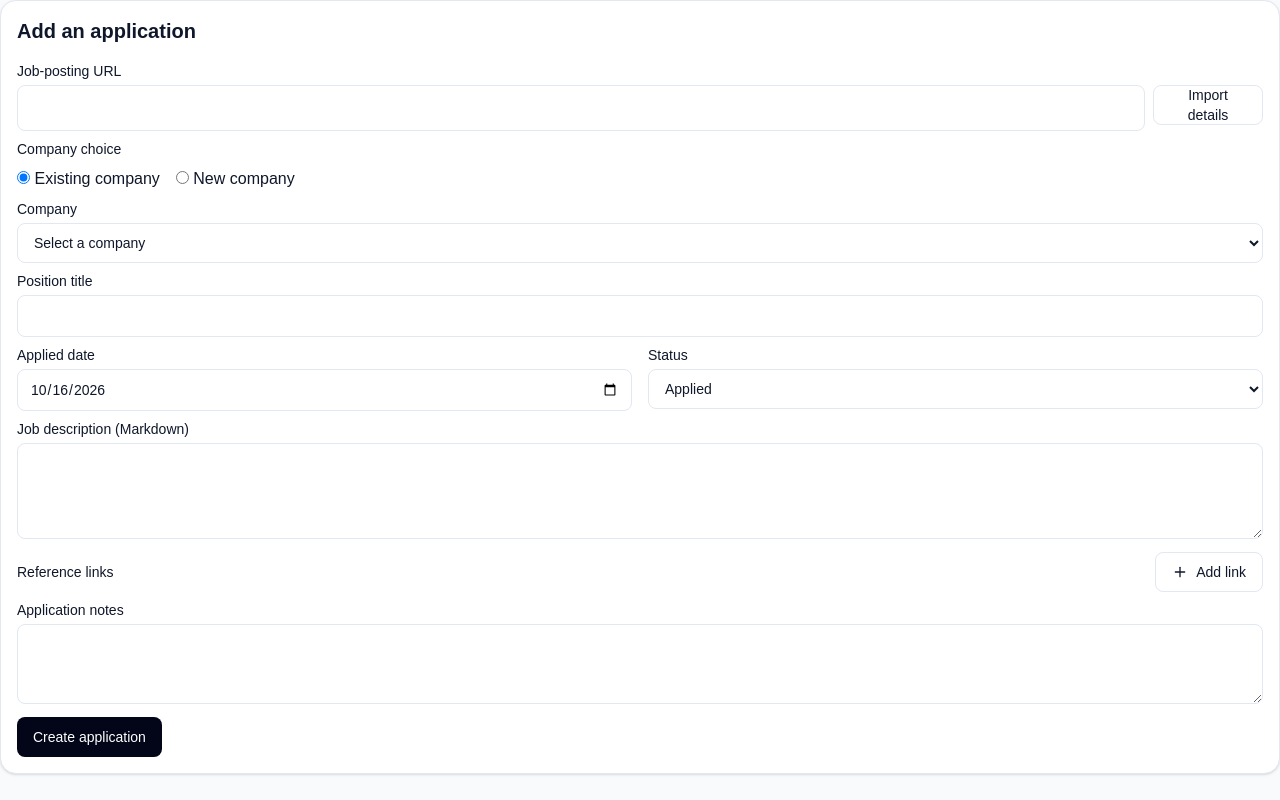
CreateApplicationForm › supports inline company and preserves values after a server error
Click the radio button labelled "New company": point(182, 178) top-left (176, 171), bottom-right (189, 184)
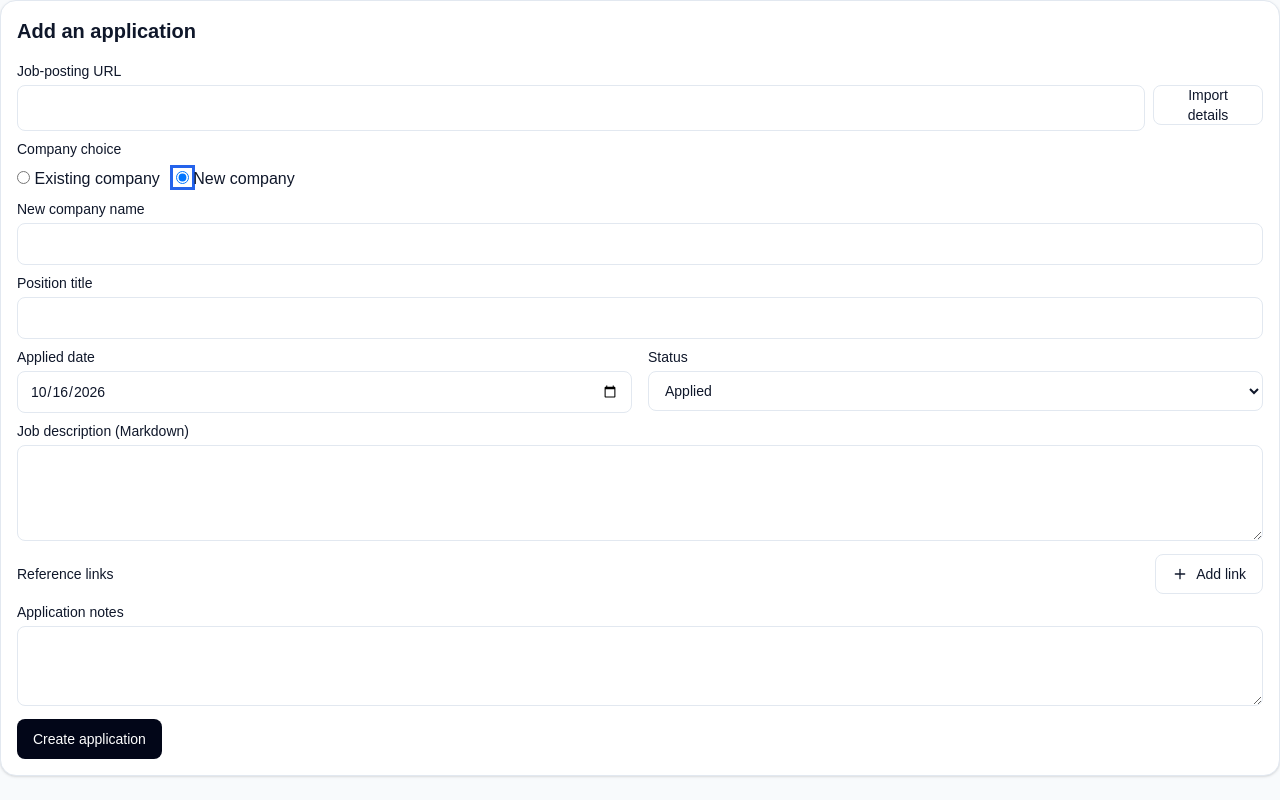
In the field labelled "New company name": point(640, 244) top-left (17, 223), bottom-right (1263, 265), type "New Co"
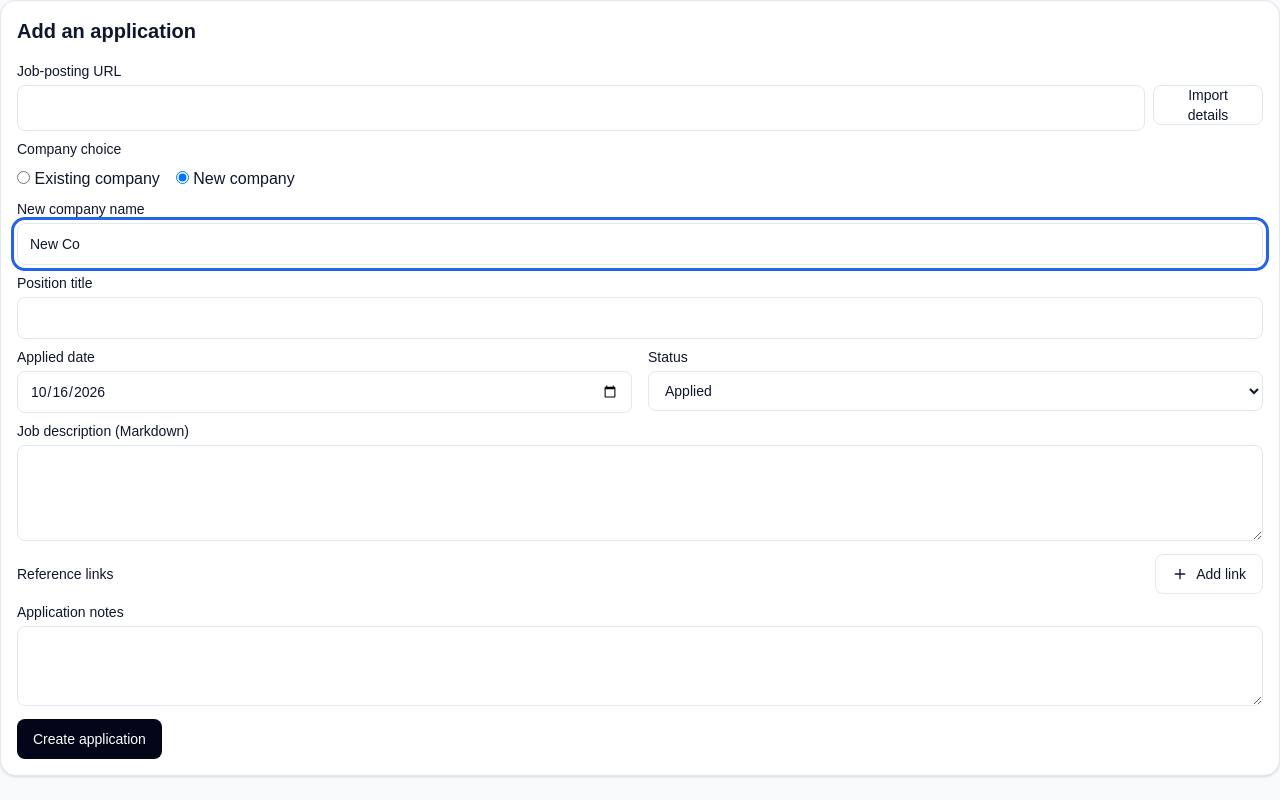
In the field labelled "Position title": point(640, 318) top-left (17, 297), bottom-right (1263, 339), type "Designer"
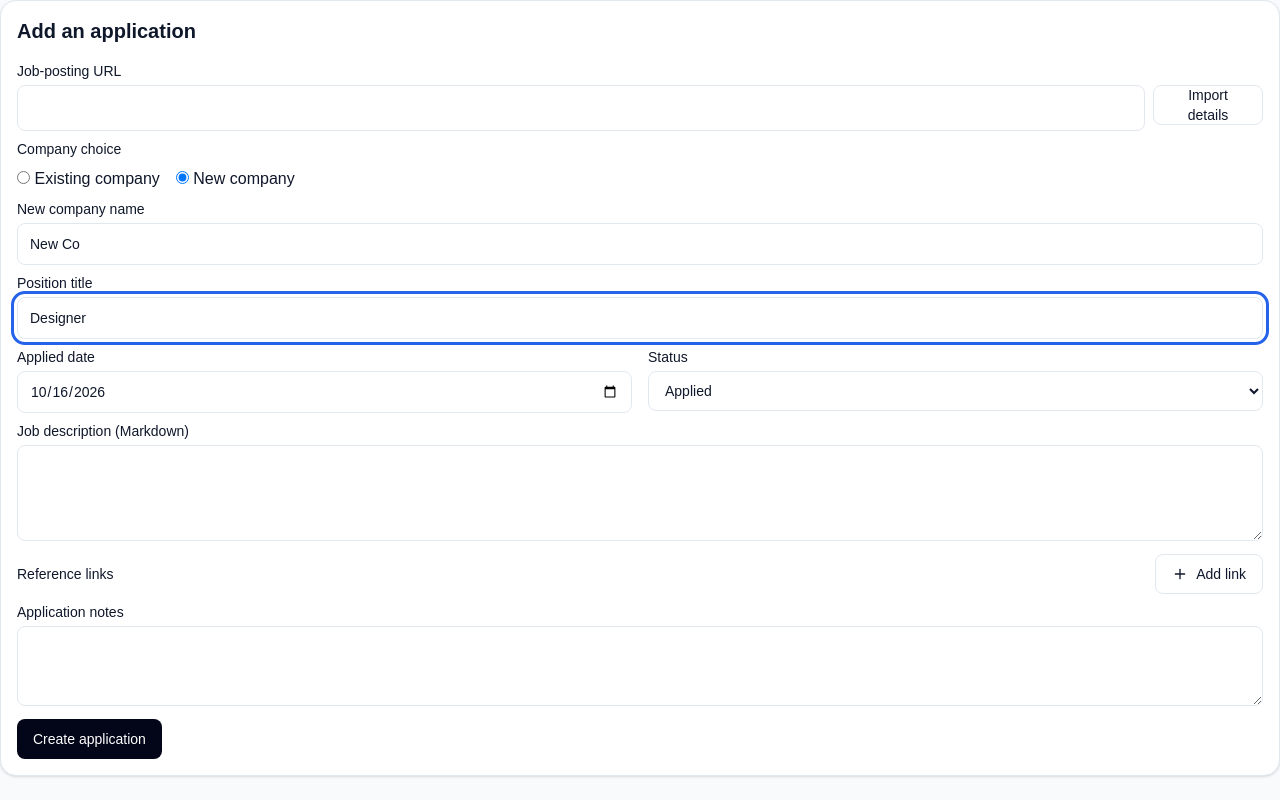
Click the button "Create application": point(89, 739) top-left (17, 719), bottom-right (162, 759)
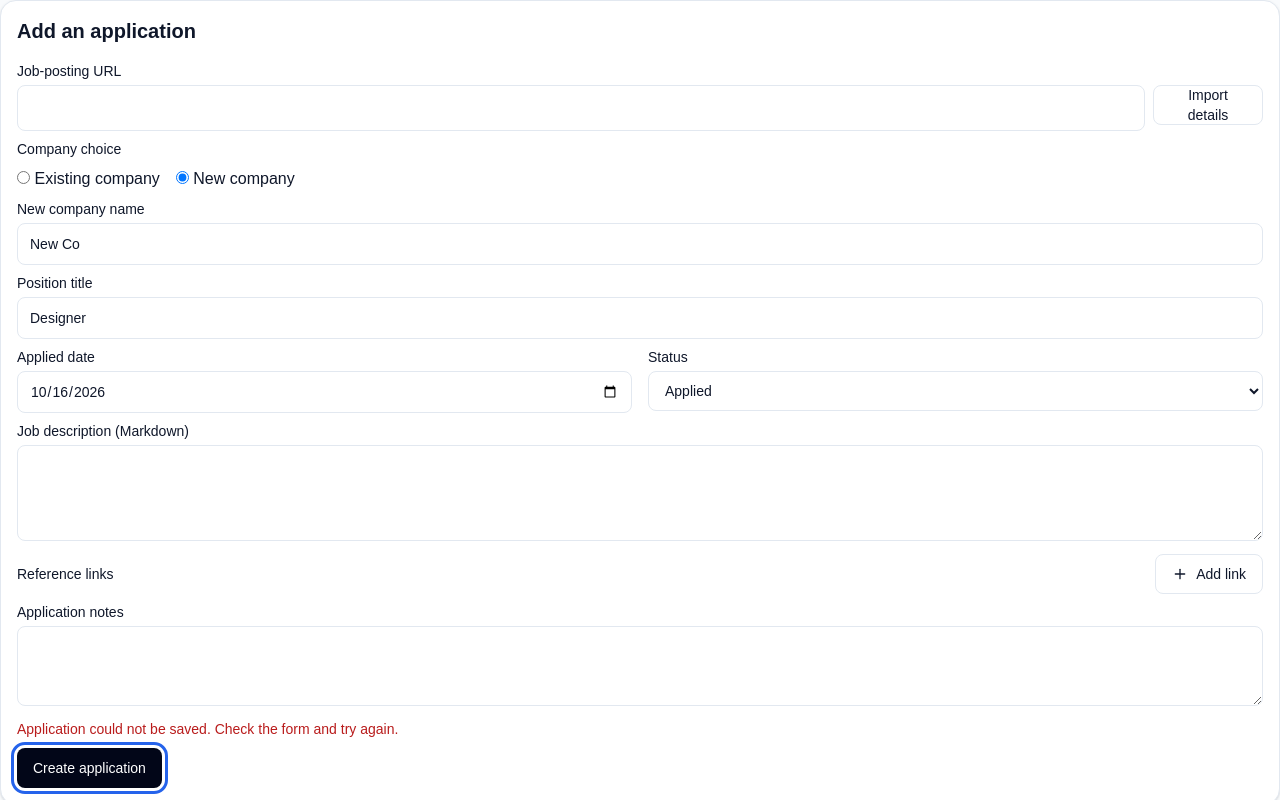
Result: the message "Application could not be saved. Check the form and try again." is shown at top-left (17, 721), bottom-right (398, 737)
